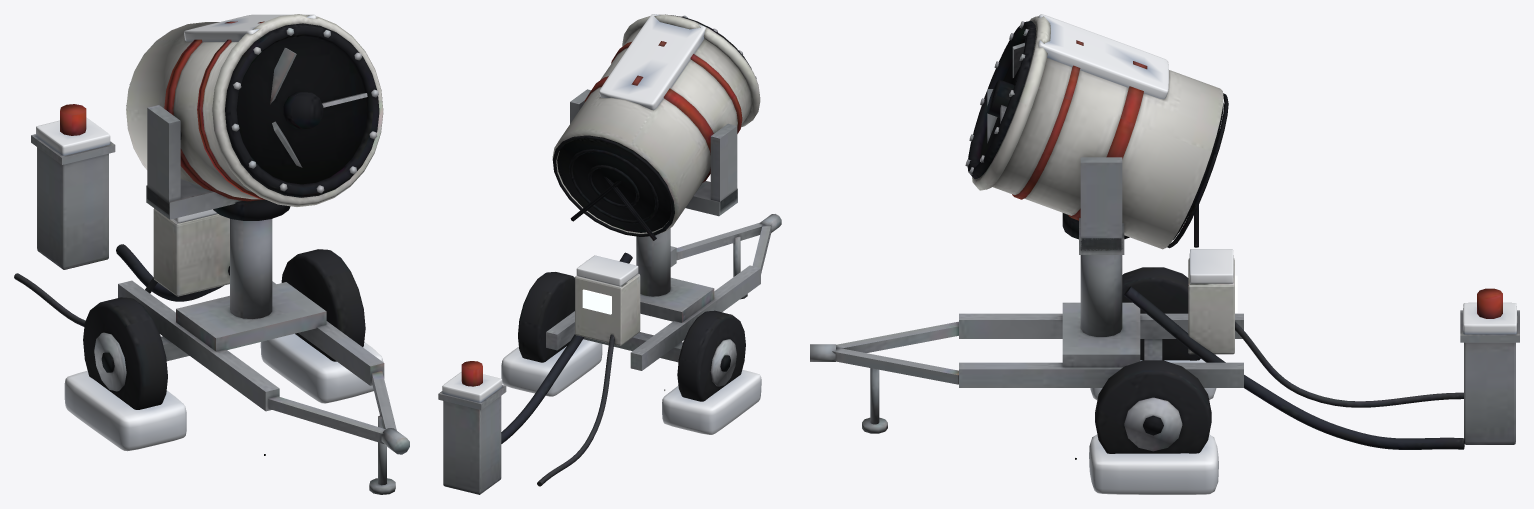
The model's file is snow_gun.glb.
The picture shows the model from 3 angles, left to right: view 1: azimuth 30°, elevation 25°; view 2: azimuth 150°, elevation 25°; view 3: azimuth 270°, elevation 25°; orthographic projection. The views are drawn at different scales.
Visible parts, largest first — view 1: snow_gun, snow_gun_snow; view 2: snow_gun, snow_gun_snow, snow_gun_lit; view 3: snow_gun, snow_gun_snow.
Part boxes in pixels (x1,y1,x2,y2): snow_gun: (14, 14, 409, 494); snow_gun_snow: (36, 14, 383, 451); snow_gun: (438, 14, 781, 494); snow_gun_snow: (442, 14, 761, 434); snow_gun_lit: (582, 289, 611, 314); snow_gun: (810, 16, 1519, 459); snow_gun_snow: (1038, 14, 1517, 494).
Bounding box in the file's own units: 2.3 × 3.7 × 5.48.
3 materials, 1 textured.
